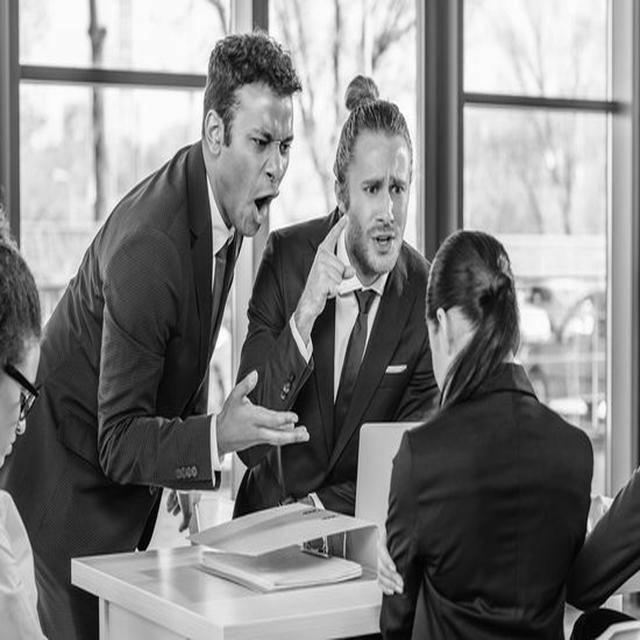Angry: (216, 86, 294, 236)
